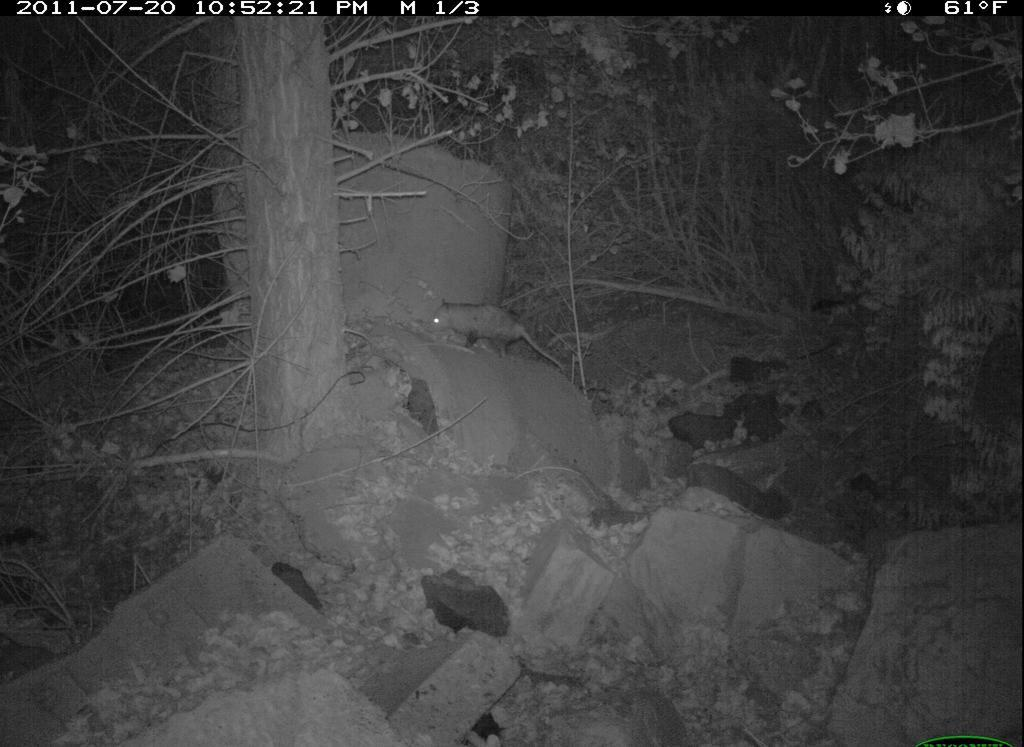opossum: (425, 296, 577, 377)
